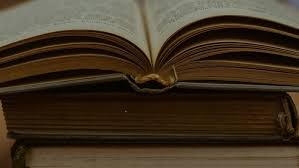Open Book: (1, 1, 299, 97)
